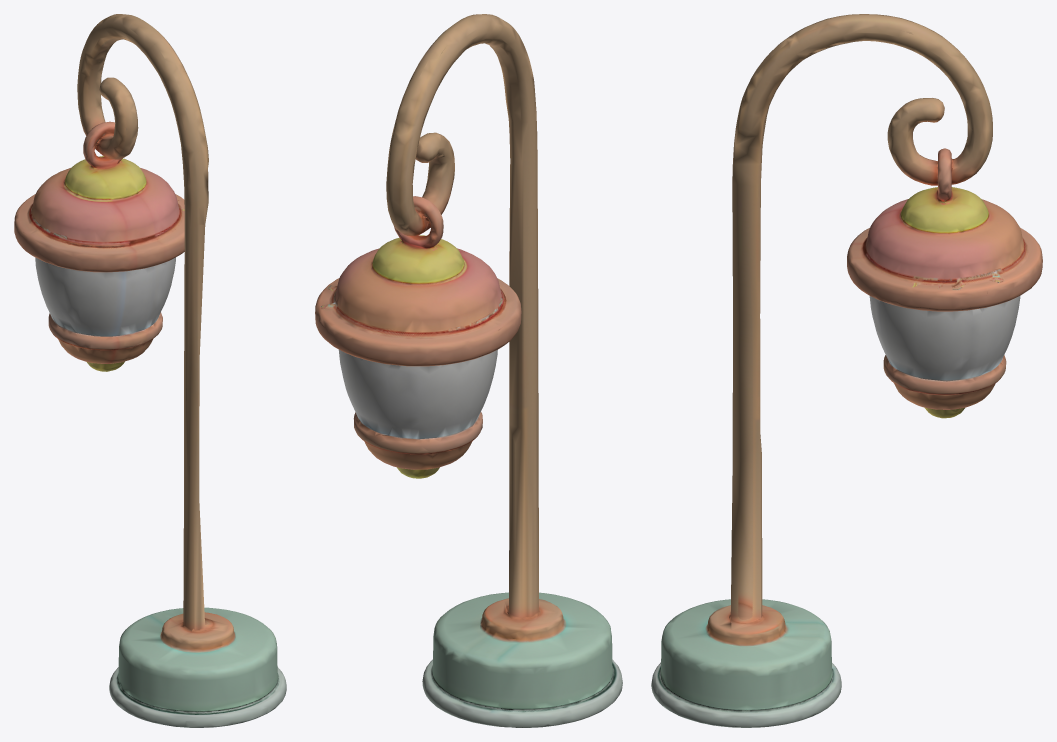
3 renders of one model, left to right at view 1: azimuth 30°, elevation 25°; view 2: azimuth 150°, elevation 25°; view 3: azimuth 270°, elevation 25°, orthographic. The views are drawn at different scales.
Visible parts, largest first — view 1: repaired; view 2: repaired; view 3: repaired.
Part boxes in pixels (x1,y1,x2,y2): repaired: (14, 14, 286, 727); repaired: (315, 14, 622, 727); repaired: (651, 14, 1042, 727).
Size of the model in its own units: 0.2631 by 0.9994 by 0.5269.
1 material, 1 textured.
